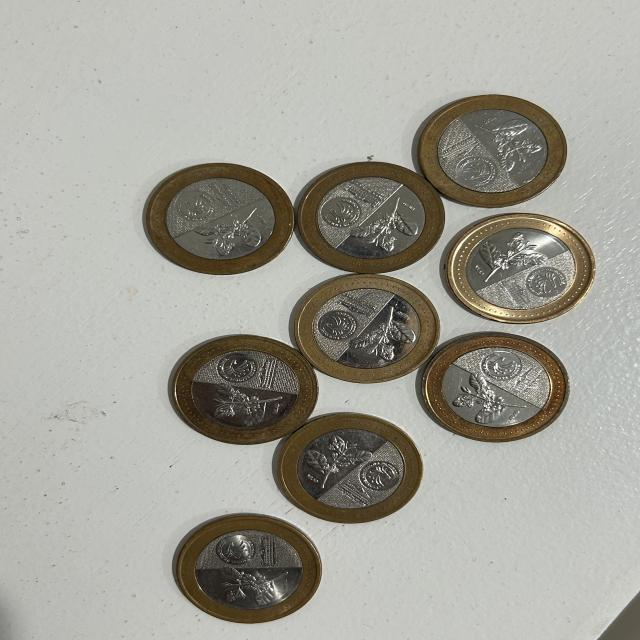20_New_Back: (449, 374, 525, 424), (193, 205, 264, 255), (195, 385, 288, 423), (350, 196, 415, 249), (215, 564, 294, 606), (307, 434, 367, 489), (354, 307, 414, 361), (478, 120, 542, 169), (477, 235, 542, 278)
